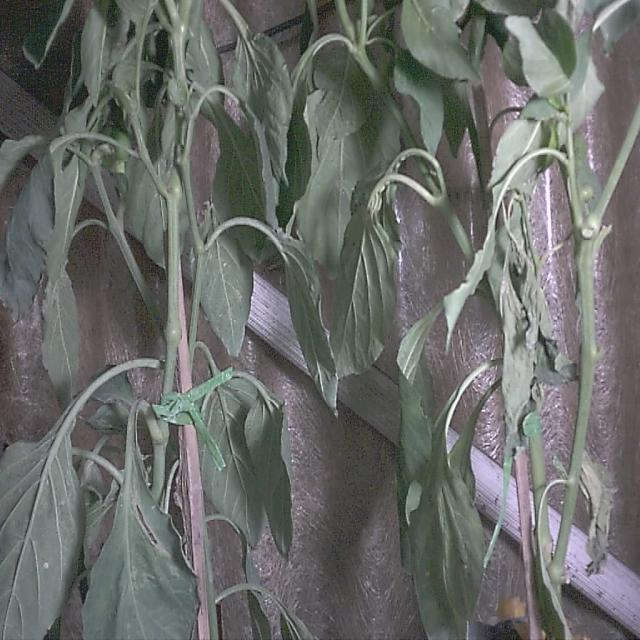Leaf: (83, 429, 198, 639), (0, 425, 83, 639), (331, 200, 399, 377), (199, 379, 264, 546), (280, 235, 338, 411), (0, 154, 54, 319), (233, 34, 293, 181), (245, 394, 292, 557), (192, 234, 253, 356), (401, 0, 479, 81), (42, 270, 79, 407), (24, 0, 73, 68)
